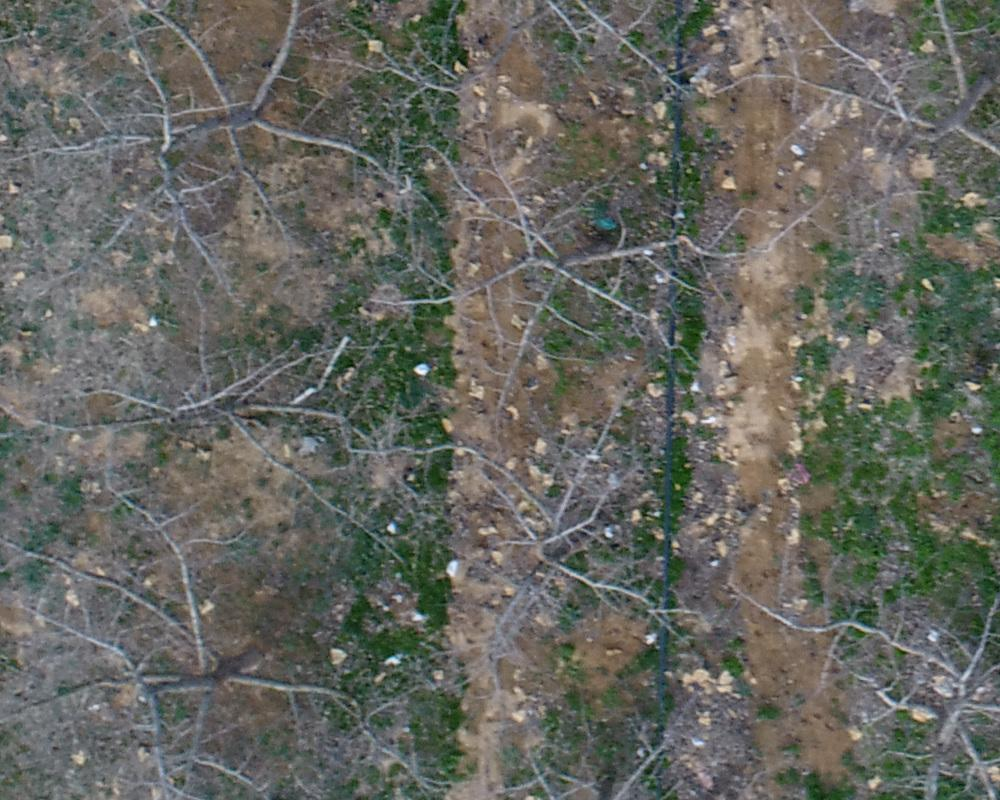apple: (10, 468, 461, 790), (10, 285, 475, 580), (10, 10, 455, 301), (411, 123, 817, 412), (422, 395, 738, 667), (717, 10, 990, 267), (429, 10, 766, 130)
